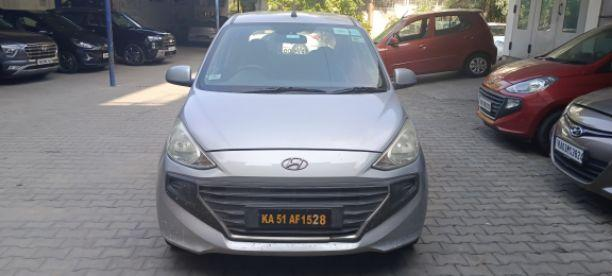license_plate: (255, 206, 332, 228), (553, 136, 586, 165)
